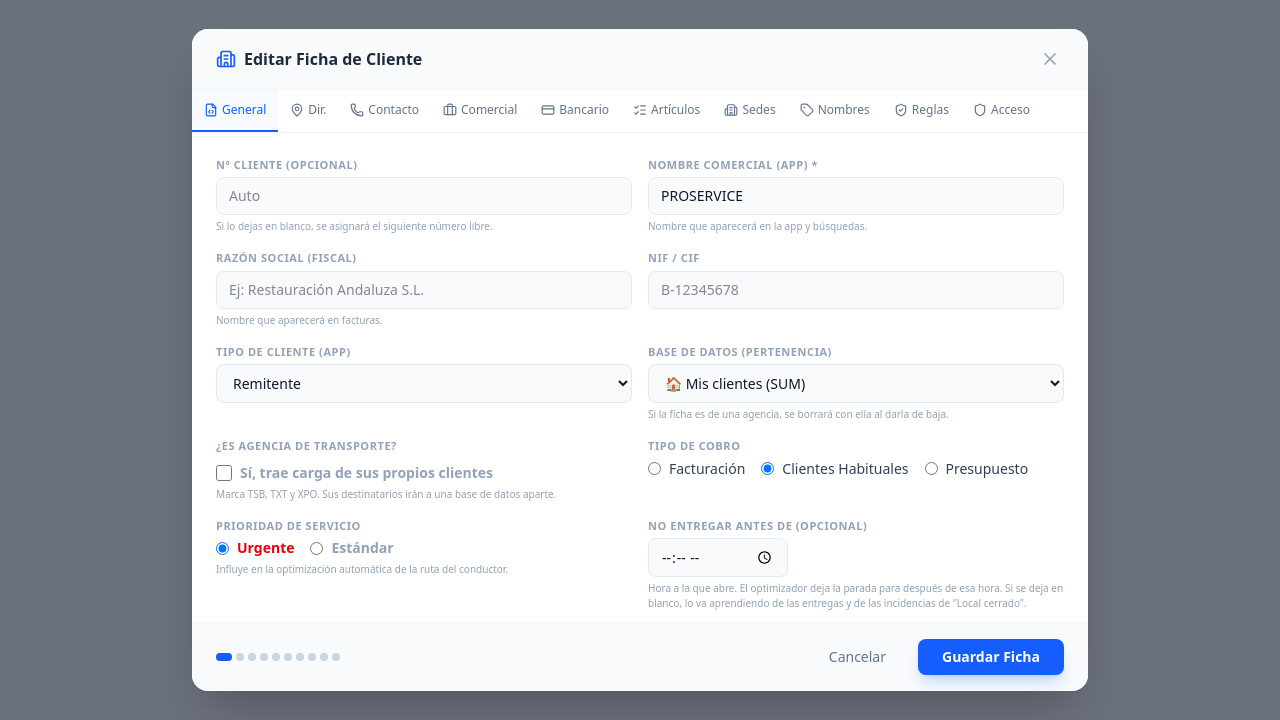
CreateClientModal — credenciales recién creadas › las enseña, con la contraseña a la vista, cuando la cuenta se ha creado
Click the button "Acceso": (1002, 111) [961,90,1042,132]
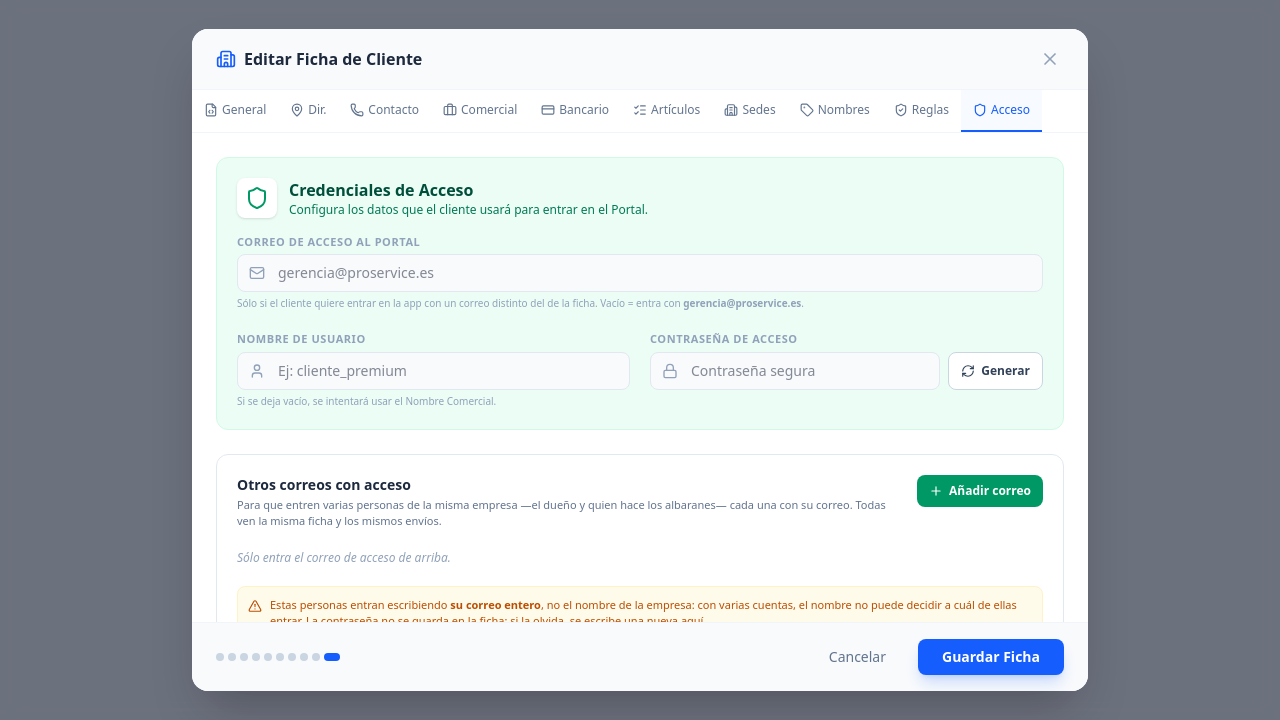
Click the button "Añadir correo": (980, 491) [917,475,1043,507]
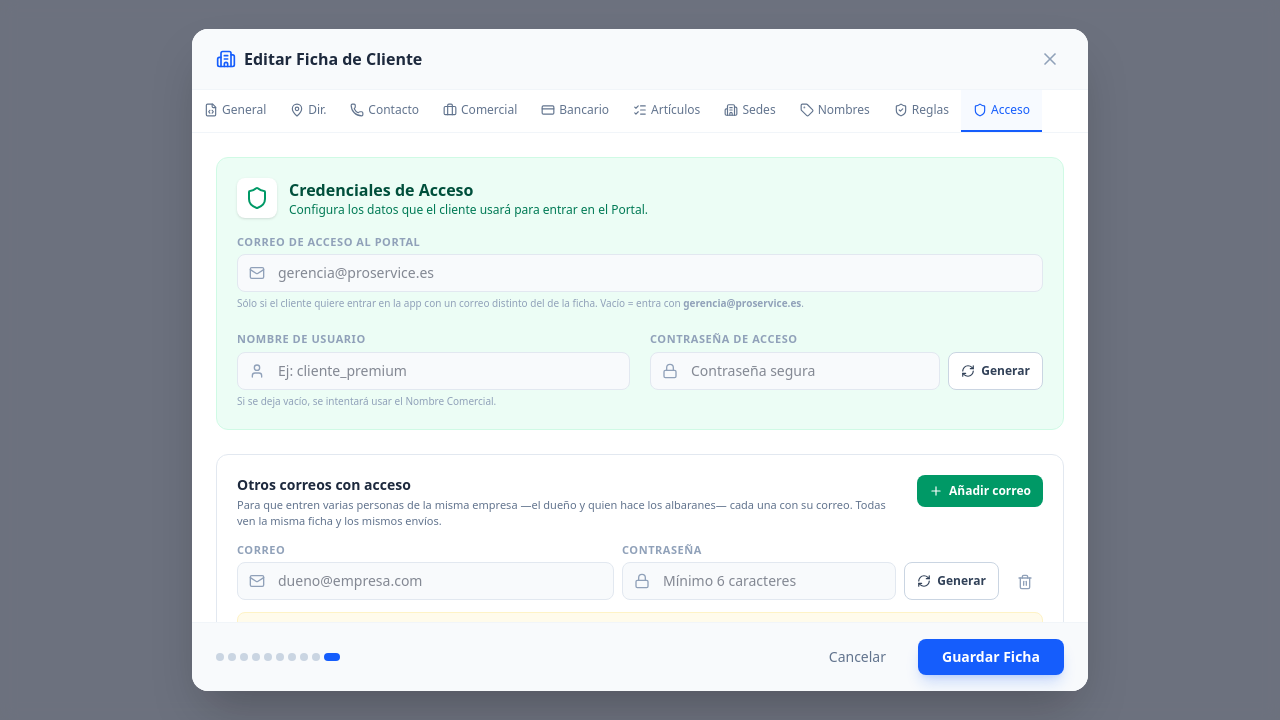
In the field with placeholder "dueno@empresa.com": (426, 581) [237,562,614,600], type "ventas@proservice.es"
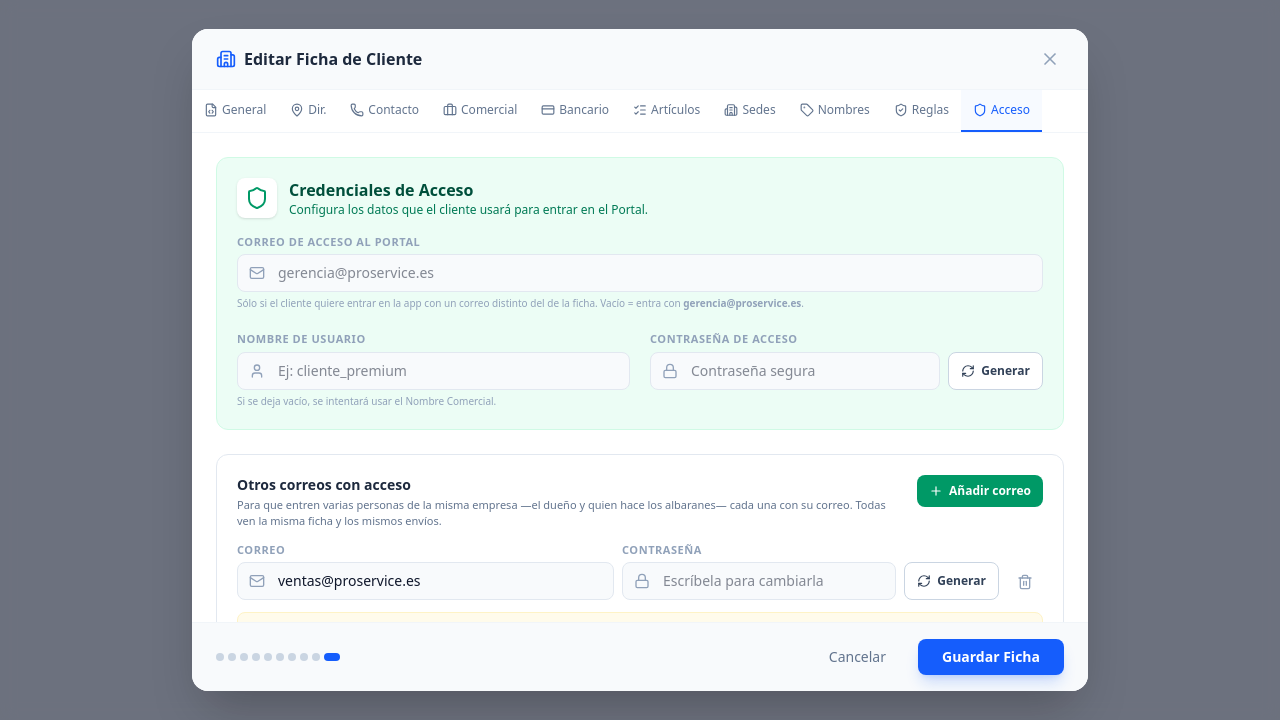
In the field with placeholder "Escríbela para cambiarla": (759, 581) [622,562,896,600], type "HierroLunaCanto47"
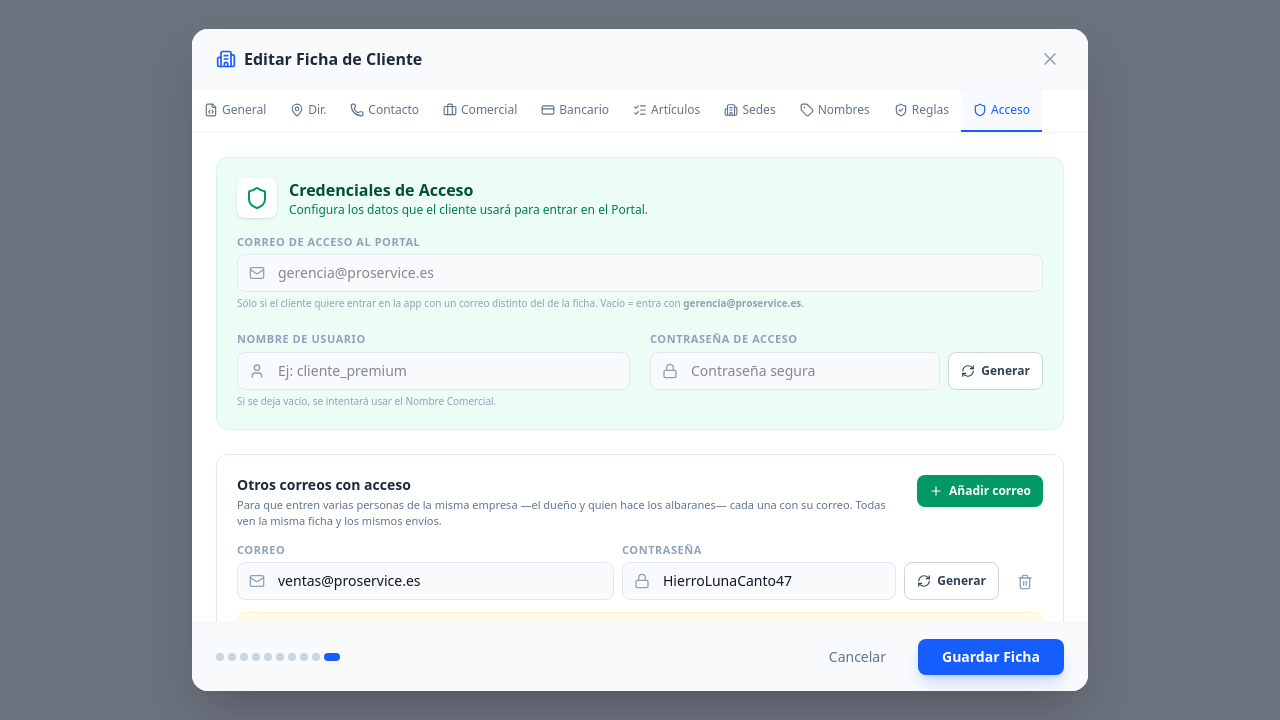
Click the button "Guardar Ficha": (991, 657) [918,639,1064,675]
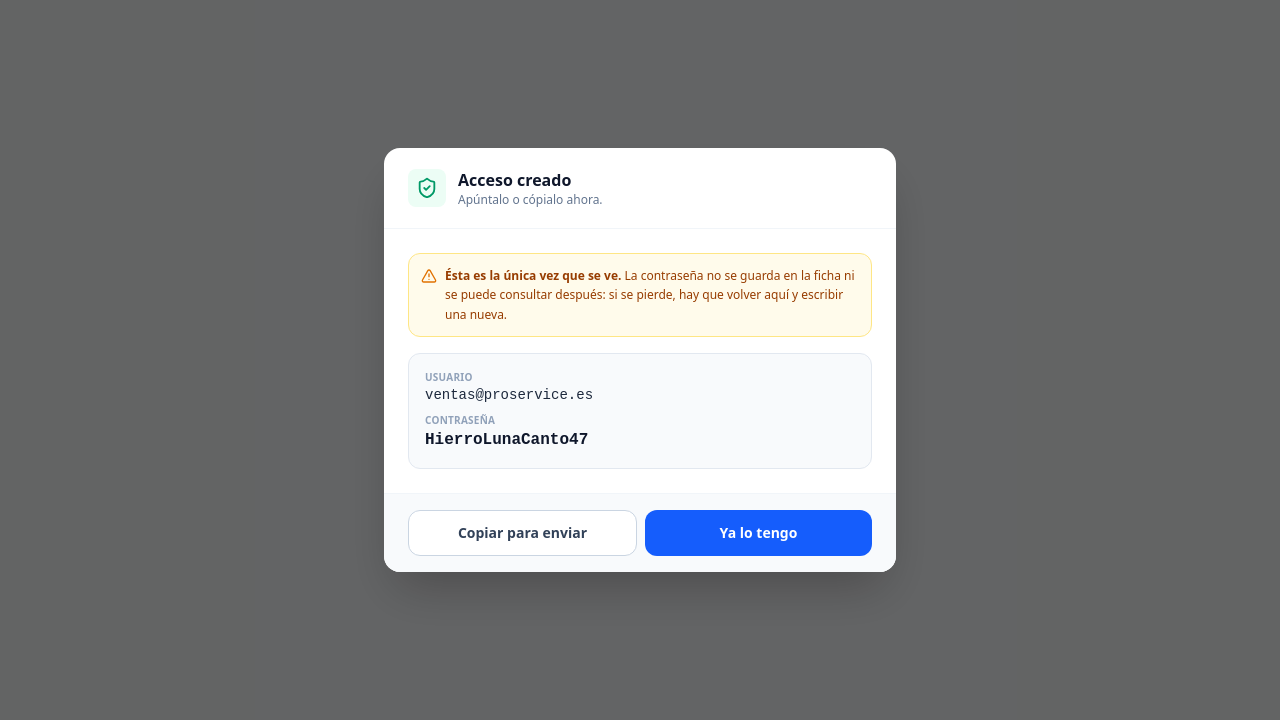
Now the heading "Acceso creado" is shown, box [458,169,571,191]
Now the text "ventas@proservice.es" is shown, box [425,387,593,403]
Now the text "HierroLunaCanto47" is shown, box [425,431,588,449]
